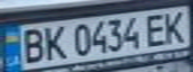0: (69, 20, 93, 56)
3: (106, 16, 127, 52)
4: (121, 13, 145, 51), (90, 18, 109, 54)
B: (15, 26, 48, 64)
E: (142, 11, 172, 47)
K: (39, 22, 69, 61), (160, 8, 190, 44)
